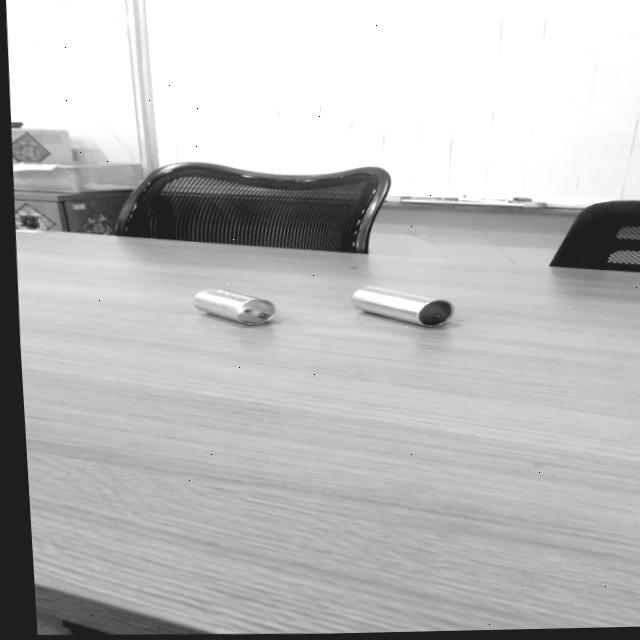Co_Lon: (348, 283, 455, 331)
Co_Nho: (190, 283, 277, 331)
